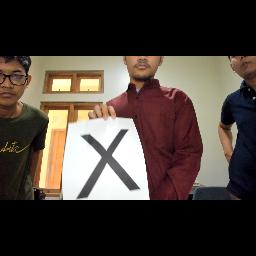x: (77, 126, 143, 200)
